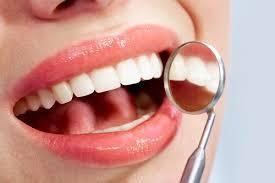normal: (88, 63, 121, 94), (114, 56, 141, 87), (66, 72, 95, 98), (49, 80, 74, 105), (134, 51, 153, 81), (35, 88, 55, 111), (150, 50, 164, 82), (25, 93, 41, 112), (14, 101, 27, 117)
